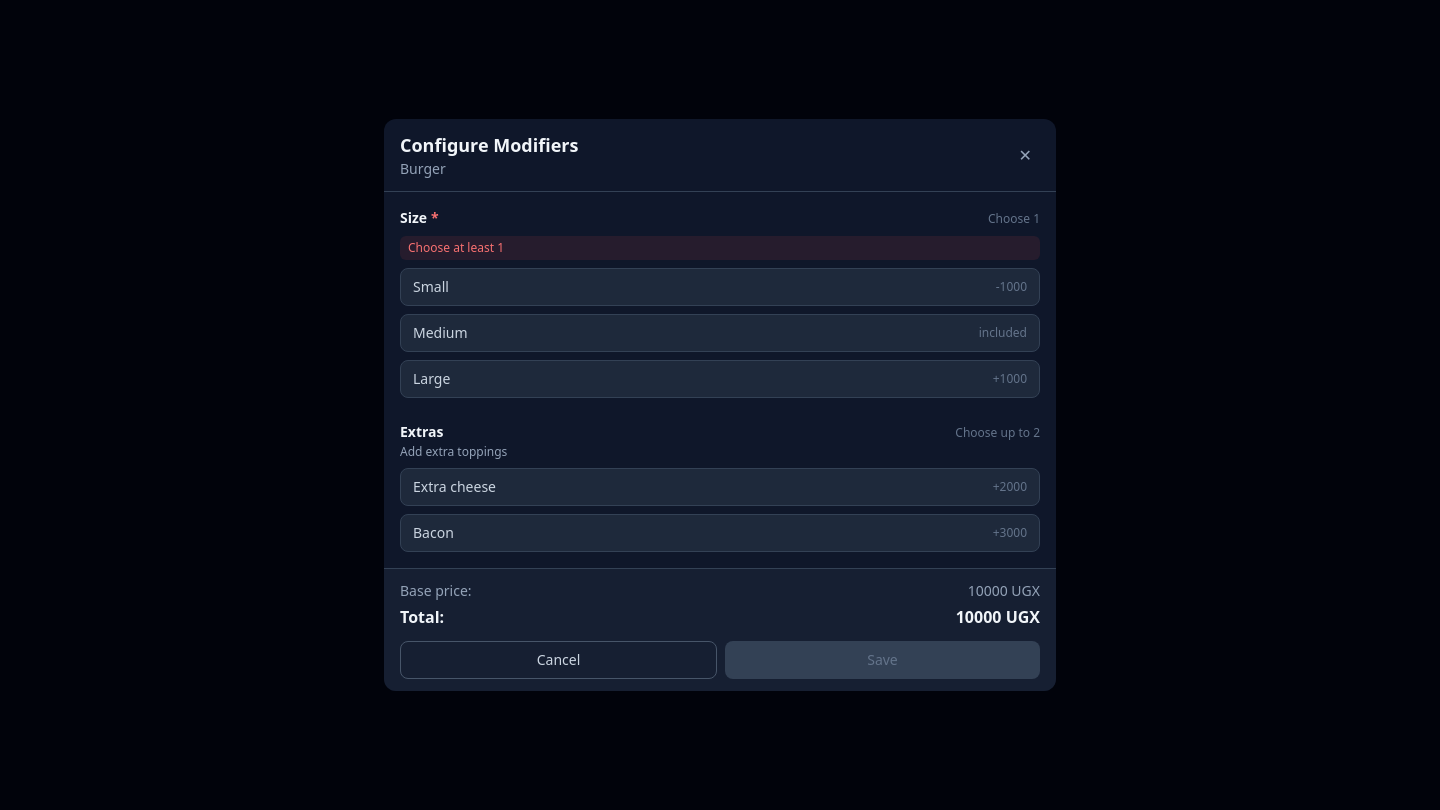
Test: PosItemModifiersDrawer › enforces required group validation (save disabled until valid)
Expected: the button "Save" is disabled, [725,641,1040,679]
# Select a size option
Click the text "Medium" at [440, 333], box [413,323,468,343]
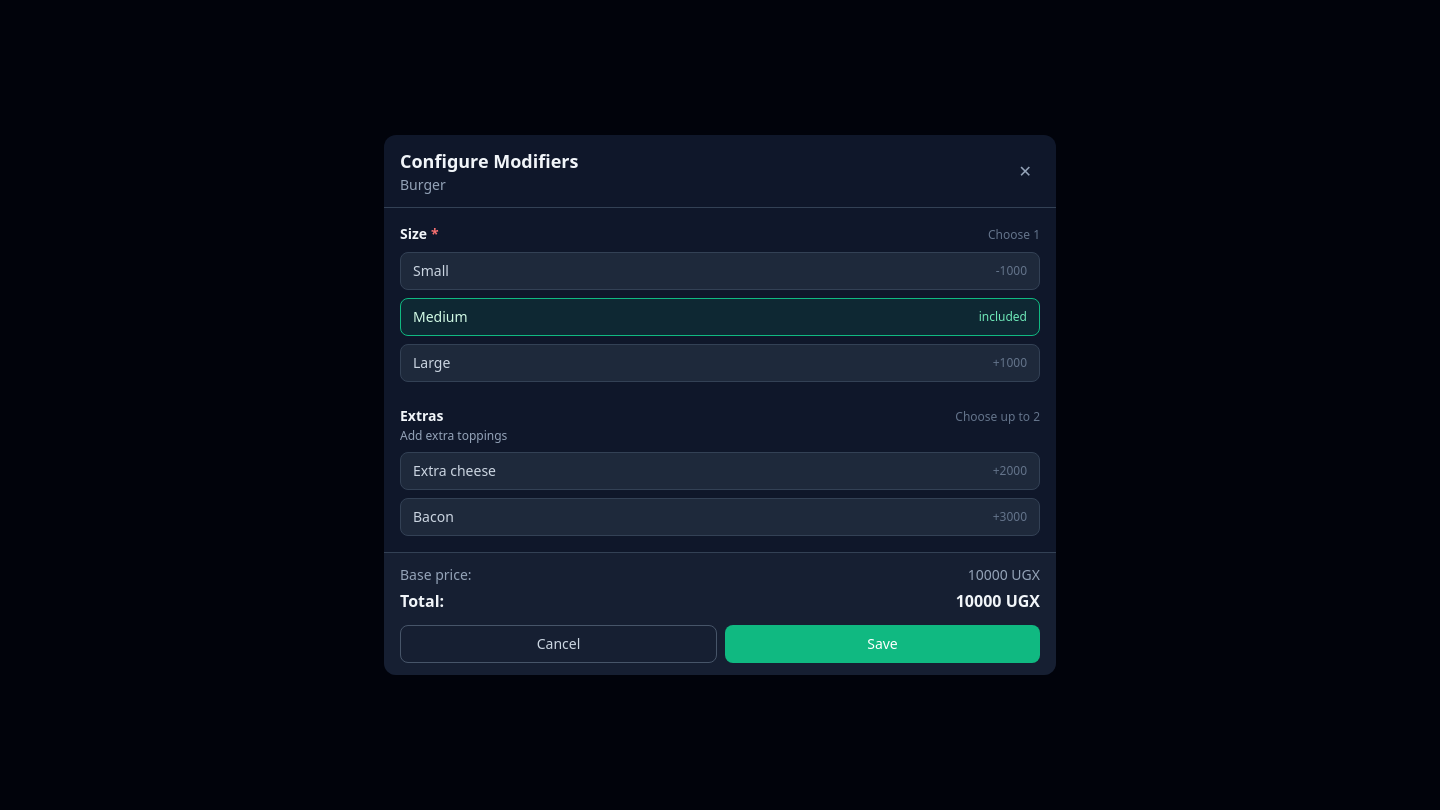
Expected: the button "Save" is enabled, [725,625,1040,663]
